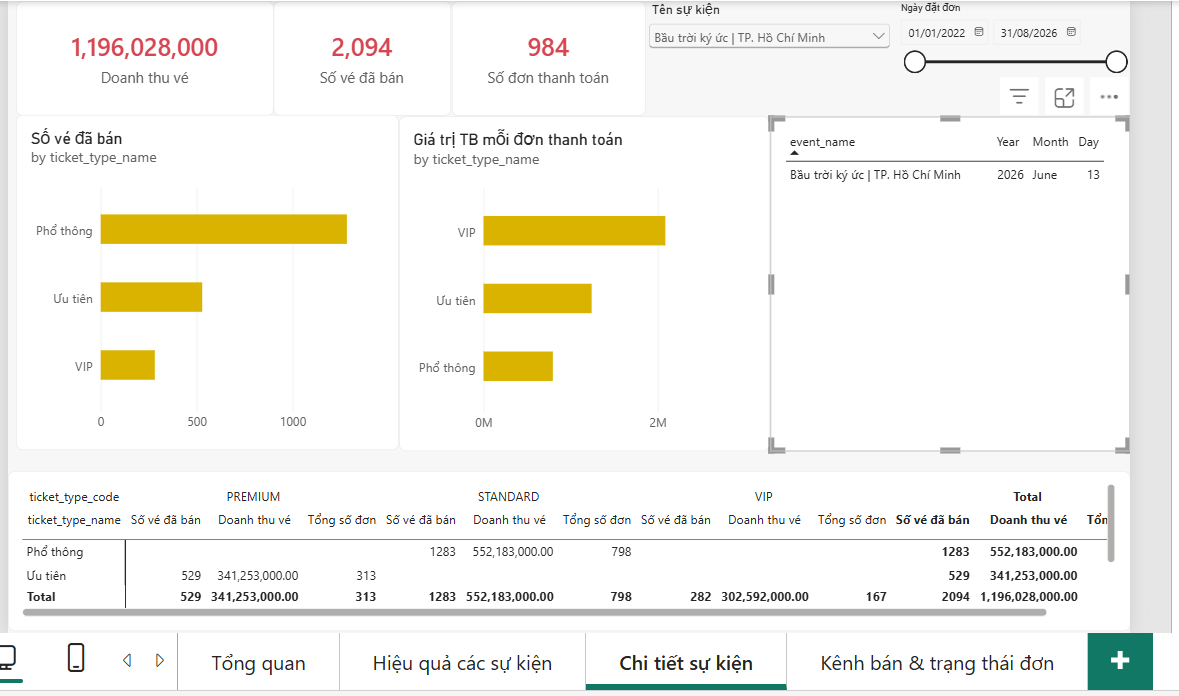

Layout of this report page (visuals, bound fields, positions):
{"tool":"powerbi","page":{"name":"Chi tiết sự kiện","canvas":[1280,720],"ordinal":2},"visuals":[{"type":"slicer","title":"1","fields":{"Values":["gold dim_date.full_date"]},"box":[1011.2,0,269.7,131.1],"z":0},{"type":"slicer","fields":{"Values":["gold dim_event.event_name"]},"box":[726.6,0,284.6,131.1],"z":1000},{"type":"card","fields":{"Values":["gold fact_ticket_sales.Doanh thu vé"]},"box":[9.4,0,294,131.1],"z":2000},{"type":"card","fields":{"Values":["gold fact_ticket_sales.Số vé đã bán"]},"box":[303.4,0,202.2,131.1],"z":3000},{"type":"card","fields":{"Values":["gold fact_ticket_sales.Số đơn thanh toán"]},"box":[505.6,0,221,131.1],"z":4000},{"type":"tableEx","fields":{"Values":["gold dim_event.event_name","gold dim_event.starts_at.Variation.Date Hierarchy.Year","gold dim_event.starts_at.Variation.Date Hierarchy.Month","gold dim_event.starts_at.Variation.Date Hierarchy.Day"]},"box":[868.9,131.1,412,382],"z":5000},{"type":"pivotTable","fields":{"Columns":["gold dim_ticket_type.ticket_type_code"],"Rows":["gold dim_ticket_type.ticket_type_name"],"Values":["gold fact_ticket_sales.Số vé đã bán","gold fact_ticket_sales.Doanh thu vé","gold fact_ticket_sales.Tổng số đơn"]},"box":[0,536.4,1280.5,182.7],"z":6000},{"type":"clusteredBarChart","fields":{"Category":["gold dim_ticket_type.ticket_type_name"],"Y":["gold fact_ticket_sales.Số vé đã bán"]},"box":[9.6,130.7,436.4,382.6],"z":7000},{"type":"clusteredBarChart","fields":{"Category":["gold dim_ticket_type.ticket_type_name"],"Y":["gold fact_ticket_sales.Giá trị TB mỗi đơn thanh toán"]},"box":[445.7,131.1,423.2,382],"z":8000}]}

Visuals, with their boxes on the page's 1280x720 design canvas (x1, y1, x2, y2). These are canvas units, not pixel positions in the 1179x696 screenshot, which may show the page scaled, cropped or inside an application window:
"1" slicer: x1=1011, y1=0, x2=1281, y2=131
slicer - gold dim_event.event_name: x1=727, y1=0, x2=1011, y2=131
card - gold fact_ticket_sales.Doanh thu vé: x1=9, y1=0, x2=303, y2=131
card - gold fact_ticket_sales.Số vé đã bán: x1=303, y1=0, x2=506, y2=131
card - gold fact_ticket_sales.Số đơn thanh toán: x1=506, y1=0, x2=727, y2=131
tableEx - gold dim_event.event_name x gold dim_event.starts_at.Variation.Date Hierarchy.Year: x1=869, y1=131, x2=1281, y2=513
pivotTable - gold dim_ticket_type.ticket_type_code x gold dim_ticket_type.ticket_type_name: x1=0, y1=536, x2=1280, y2=719
clusteredBarChart - gold dim_ticket_type.ticket_type_name x gold fact_ticket_sales.Số vé đã bán: x1=10, y1=131, x2=446, y2=513
clusteredBarChart - gold dim_ticket_type.ticket_type_name x gold fact_ticket_sales.Giá trị TB mỗi đơn thanh toán: x1=446, y1=131, x2=869, y2=513
